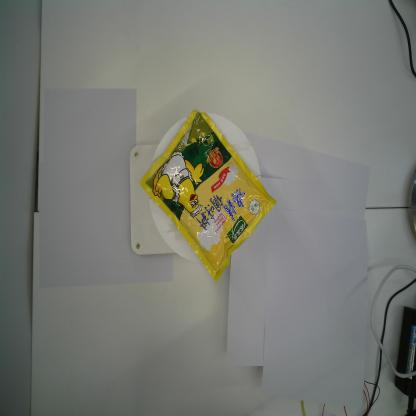Seasoner: (137, 108, 278, 284)
